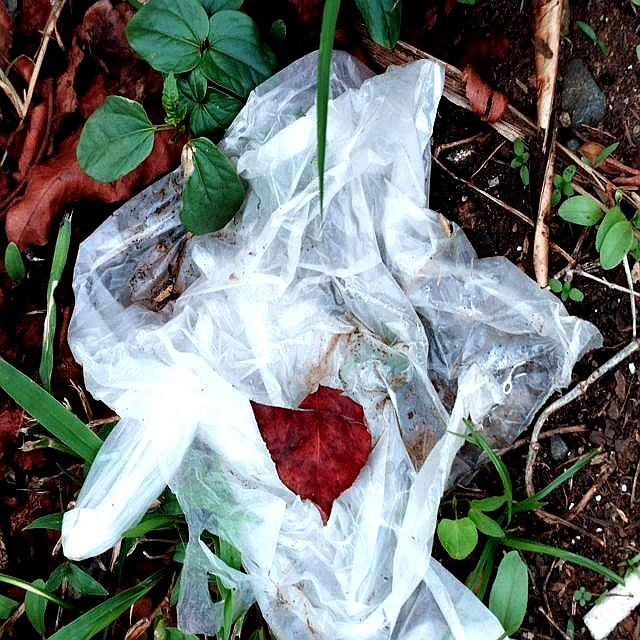Non-biodegradable: (59, 53, 597, 640)
